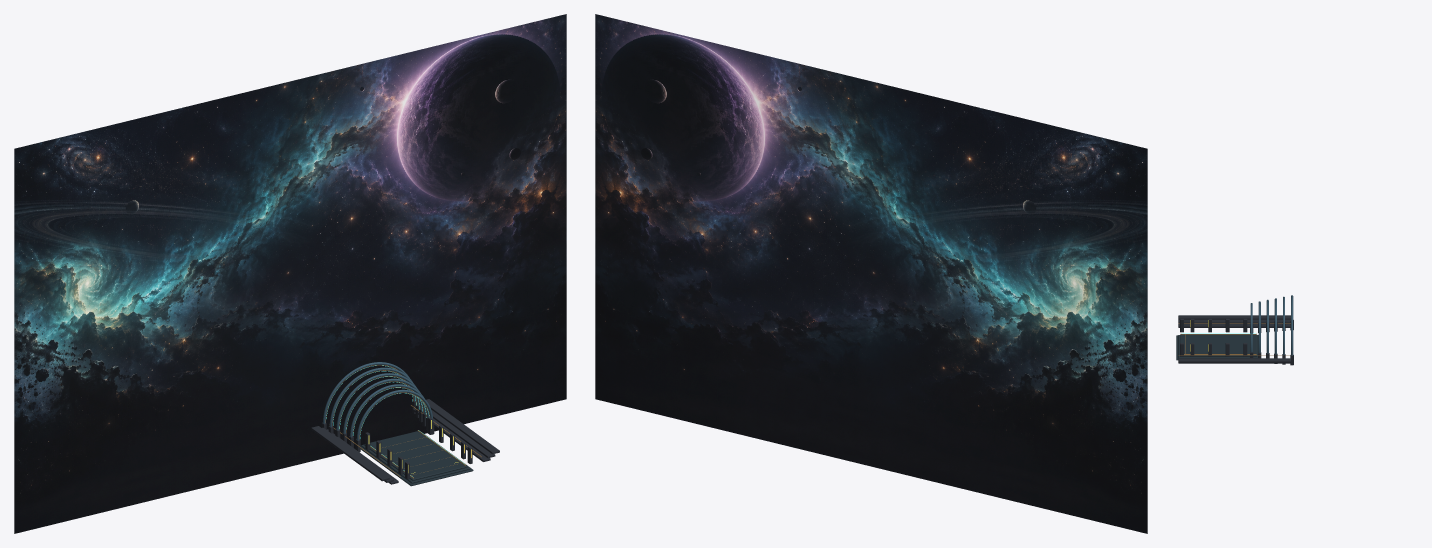
The model's file is arena-premium.glb.
3 renders of one model, left to right at view 1: azimuth 30°, elevation 25°; view 2: azimuth 150°, elevation 25°; view 3: azimuth 270°, elevation 25°, orthographic. The views are drawn at different scales.
Parts seen in each view (by area): view 1: Nebula cyclorama, Stepped arena dais, Gallery terrace.002, Gallery terrace.005; view 2: Nebula cyclorama; view 3: Stepped arena dais, Gallery terrace.005, Gallery terrace.002, Gallery terrace.001, Gallery terrace, Stepped arena dais.001.
Part boxes in pixels (x1,y1,x2,y2): Nebula cyclorama: (14,14,566,533); Stepped arena dais: (364,431,467,480); Gallery terrace.002: (311,426,389,481); Gallery terrace.005: (426,399,499,454); Nebula cyclorama: (595,14,1147,533); Stepped arena dais: (1180,334,1257,356); Gallery terrace.005: (1178,358,1290,362); Gallery terrace.002: (1178,315,1290,319); Gallery terrace.001: (1178,319,1290,323); Gallery terrace: (1178,324,1290,327); Stepped arena dais.001: (1178,335,1258,358).
Size of the model in its own units: 72 by 48 by 34.3.
7 materials, 1 textured.
